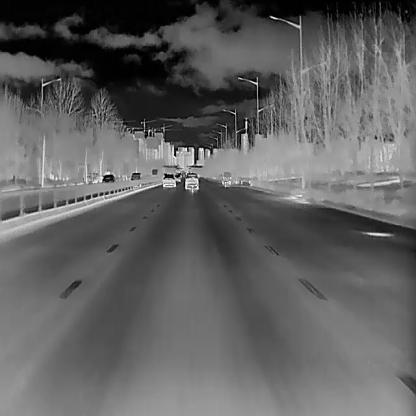bus: (150, 167, 158, 176)
car: (184, 172, 198, 190), (162, 171, 175, 187), (221, 171, 231, 186), (100, 173, 113, 183), (130, 170, 140, 180), (174, 172, 180, 181)
